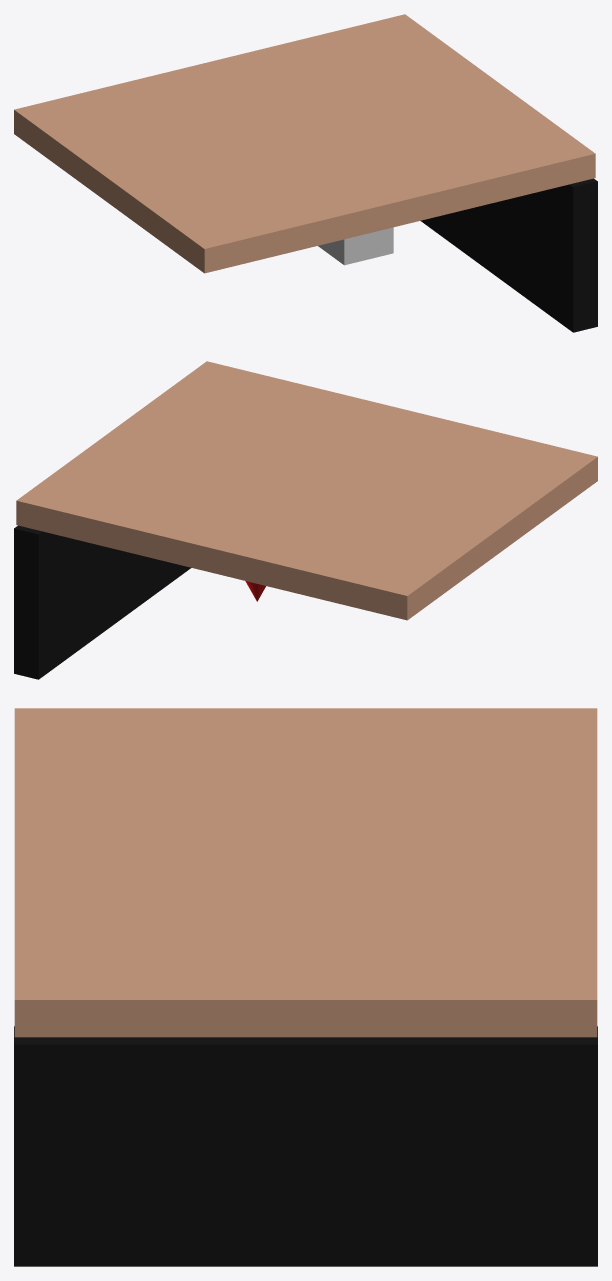
The picture shows the model from 3 angles, top to bottom: view 1: azimuth 30°, elevation 25°; view 2: azimuth 150°, elevation 25°; view 3: azimuth 270°, elevation 25°; orthographic projection. The views are drawn at different scales.
Parts seen in each view (by area): view 1: Cube_Cube.001, Cube.001_Cube.002, CubeGreen_Cube.001_Cube.002; view 2: Cube_Cube.001, Cube.001_Cube.002; view 3: Cube_Cube.001, Cube.001_Cube.002.
Boxes of the visible parts, left/top/right/bottom form: Cube_Cube.001: left=14, top=14, right=595, bottom=273; Cube.001_Cube.002: left=420, top=178, right=597, bottom=332; CubeGreen_Cube.001_Cube.002: left=318, top=227, right=393, bottom=265; Cube_Cube.001: left=16, top=361, right=597, bottom=620; Cube.001_Cube.002: left=14, top=525, right=191, bottom=679; Cube_Cube.001: left=14, top=708, right=597, bottom=1037; Cube.001_Cube.002: left=14, top=1026, right=597, bottom=1266.
Size of the model in its own units: 31.83 by 13.41 by 26.78.
